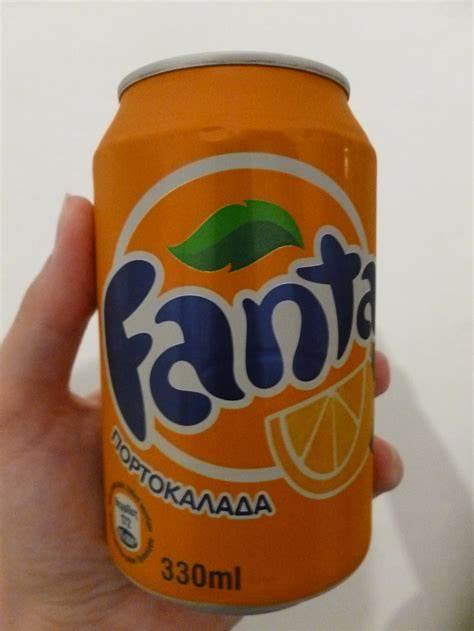metal: (94, 51, 377, 614)
